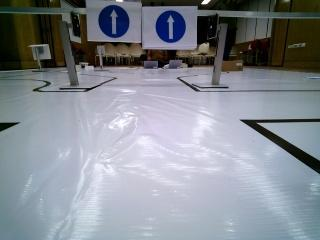straight: (88, 3, 143, 42), (146, 6, 195, 49)
